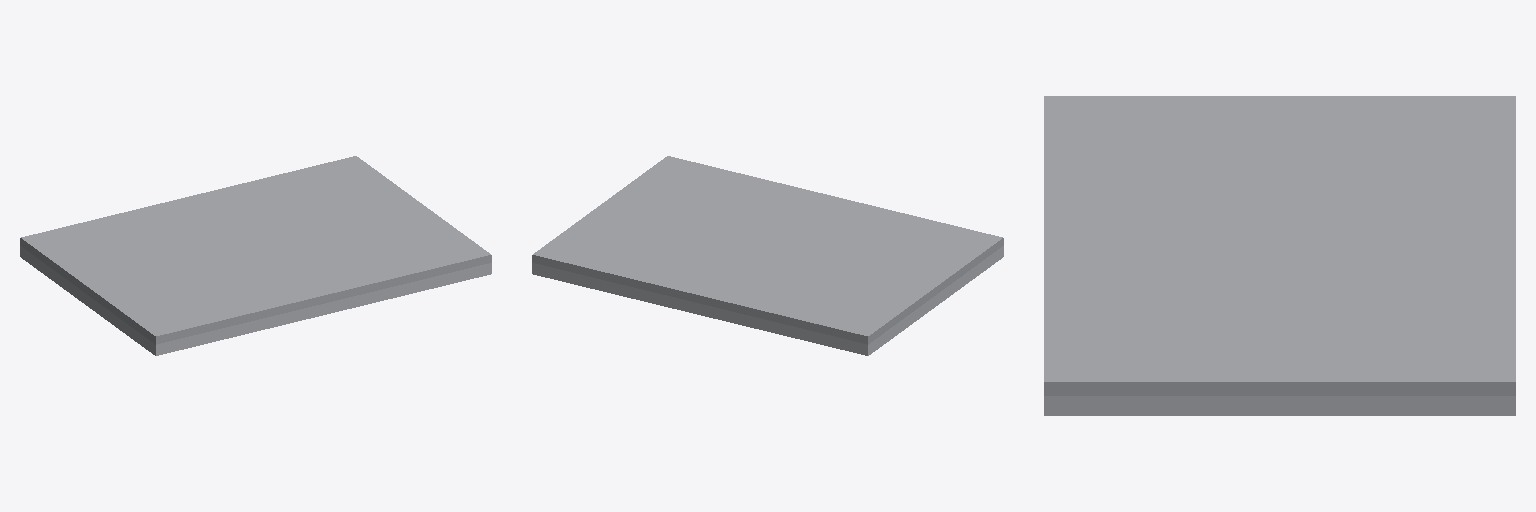
URDF robot description (macbook_laptop):
<?xml version="1.0"?>
<robot name="macbook_laptop">
  <!-- keyboard base chassis: ~30.4cm wide x 21.2cm deep x 1.0cm thick -->
  <link name="base">
    <visual>
      <origin xyz="0 0 0" rpy="0 0 0"/>
      <geometry>
        <box size="0.304 0.212 0.010"/>
      </geometry>
      <material name="silver">
        <color rgba="0.75 0.76 0.78 1.0"/>
      </material>
    </visual>
    <collision>
      <origin xyz="0 0 0" rpy="0 0 0"/>
      <geometry>
        <box size="0.304 0.212 0.010"/>
      </geometry>
    </collision>
    <inertial>
      <mass value="0.9"/>
      <origin xyz="0 0 0" rpy="0 0 0"/>
      <inertia ixx="0.003378" ixy="0" ixz="0" iyy="0.006939" iyz="0" izz="0.010302"/>
    </inertial>
  </link>

  <!-- display lid: ~30.4cm wide x 21.2cm deep x 0.7cm thick -->
  <link name="lid">
    <visual>
      <origin xyz="0 0.106 0.0035" rpy="0 0 0"/>
      <geometry>
        <box size="0.304 0.212 0.007"/>
      </geometry>
      <material name="silver_dark">
        <color rgba="0.70 0.71 0.73 1.0"/>
      </material>
    </visual>
    <collision>
      <origin xyz="0 0.106 0.0035" rpy="0 0 0"/>
      <geometry>
        <box size="0.304 0.212 0.007"/>
      </geometry>
    </collision>
    <inertial>
      <mass value="0.4"/>
      <origin xyz="0 0.106 0.0035" rpy="0 0 0"/>
      <inertia ixx="0.001500" ixy="0" ixz="0" iyy="0.003082" iyz="0" izz="0.004579"/>
    </inertial>
  </link>

  <!-- hinge at rear edge of base -->
  <joint name="hinge" type="revolute">
    <parent link="base"/>
    <child link="lid"/>
    <origin xyz="0 -0.106 0.005" rpy="0 0 0"/>
    <axis xyz="1 0 0"/>
    <limit lower="0.0" upper="1.92" effort="5.0" velocity="2.0"/>
    <dynamics damping="0.1" friction="0.2"/>
  </joint>
</robot>

--- What the picture shows (computed from the rendered views, not written in the file) ---
Views: 3 orthographic renders of the robot side by side, from view 1: azimuth 30°, elevation 25°; view 2: azimuth 150°, elevation 25°; view 3: azimuth 270°, elevation 25°.
Model macbook_laptop with 2 links and 1 joints (1 revolute), rooted at base, posed every joint at zero.
Visible links, largest first — view 1: lid, base; view 2: lid, base; view 3: lid, base.
Boxes of the visible links, <box> form: lid: <box>20,156,491,344</box>; base: <box>20,246,491,355</box>; lid: <box>532,156,1003,344</box>; base: <box>532,246,1003,355</box>; lid: <box>1044,96,1515,395</box>; base: <box>1044,396,1515,415</box>.
Size in the robot's own frame: 0.304 by 0.212 by 0.017 metres.
Geometry: primitives only (box / cylinder / sphere), no mesh files.
